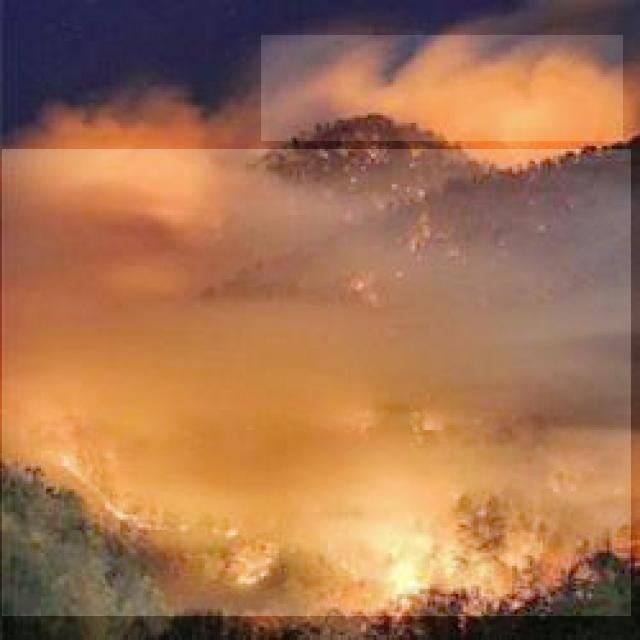Fire: (59, 448, 145, 528), (376, 556, 428, 605)
Smoke: (2, 149, 631, 616), (262, 35, 624, 141)
